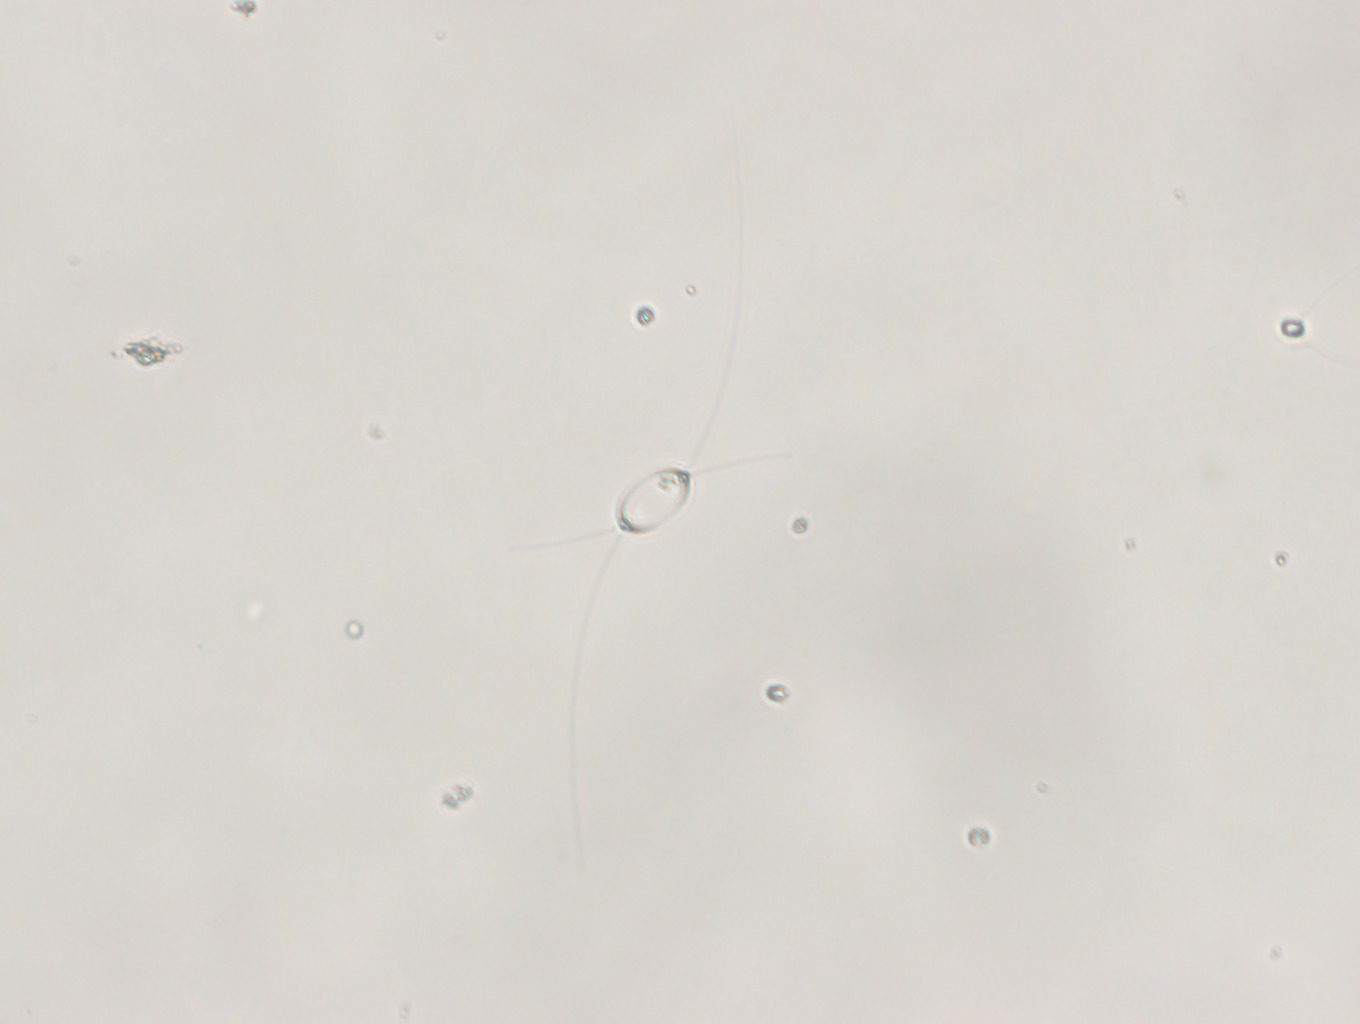chaetoceros: (464, 201, 818, 853)
